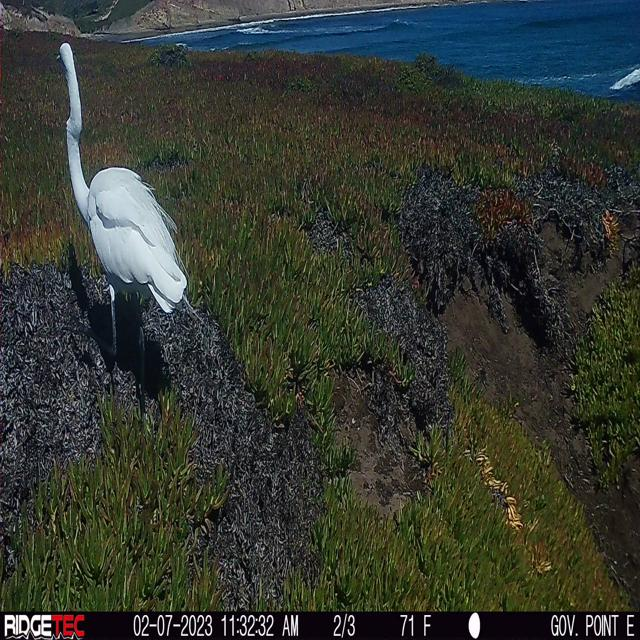bird: (56, 42, 190, 358)
